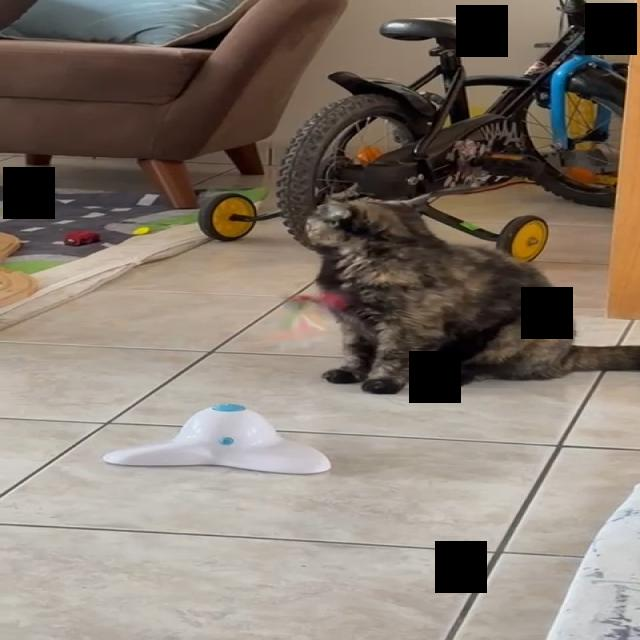authorized: (300, 184, 639, 395)
